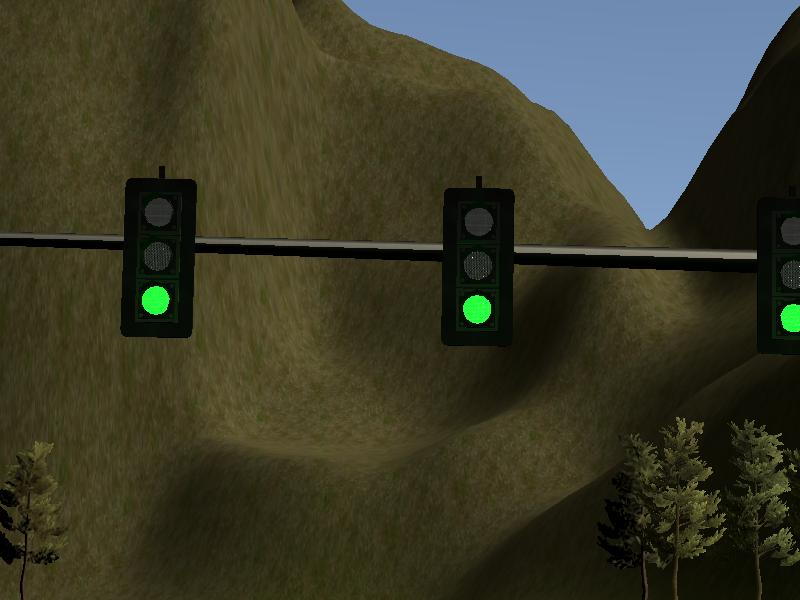green: (121, 177, 192, 338), (443, 187, 514, 348)
